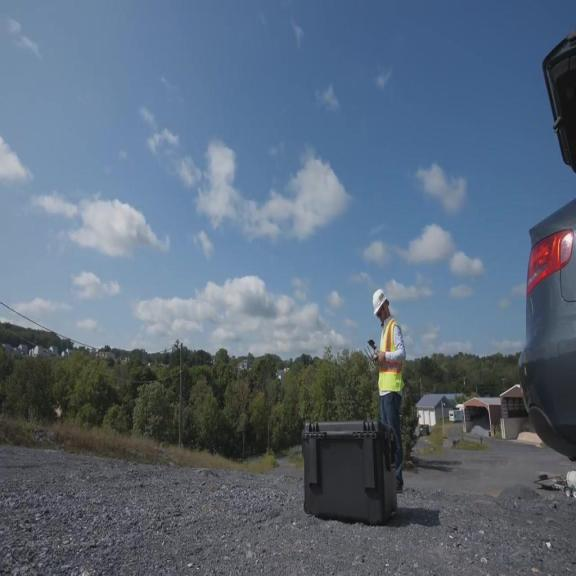safety_vest: (377, 318, 405, 392)
